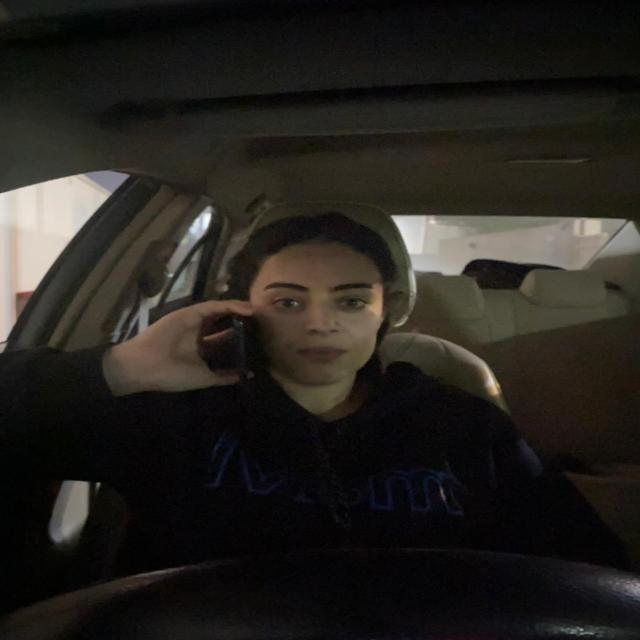phone: (223, 308, 259, 381)
